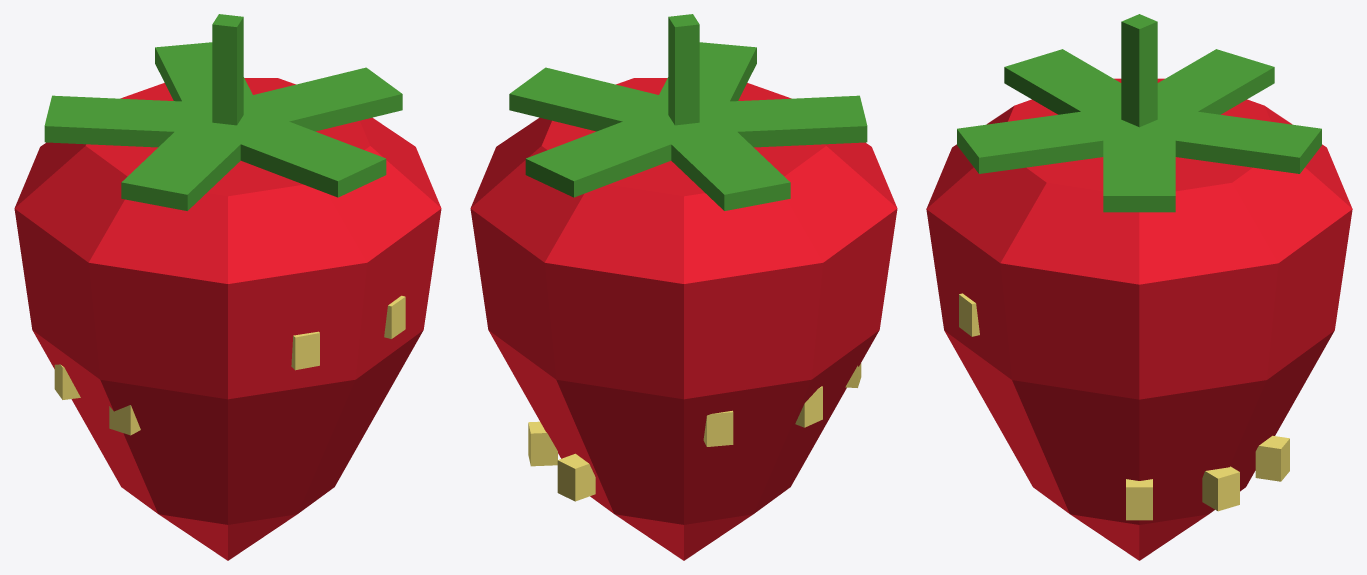
Rendered from strawberry.glb.
3 views of the same model, side by side, from view 1: azimuth 30°, elevation 25°; view 2: azimuth 150°, elevation 25°; view 3: azimuth 270°, elevation 25° (orthographic).
Visible parts, largest first — view 1: strawberry; view 2: strawberry; view 3: strawberry.
Part boxes in pixels (bbox=[...]): strawberry: bbox=[14, 14, 441, 560]; strawberry: bbox=[470, 14, 897, 560]; strawberry: bbox=[926, 14, 1352, 560].
Size of the model in its own units: 0.0466 by 0.066 by 0.0473.
